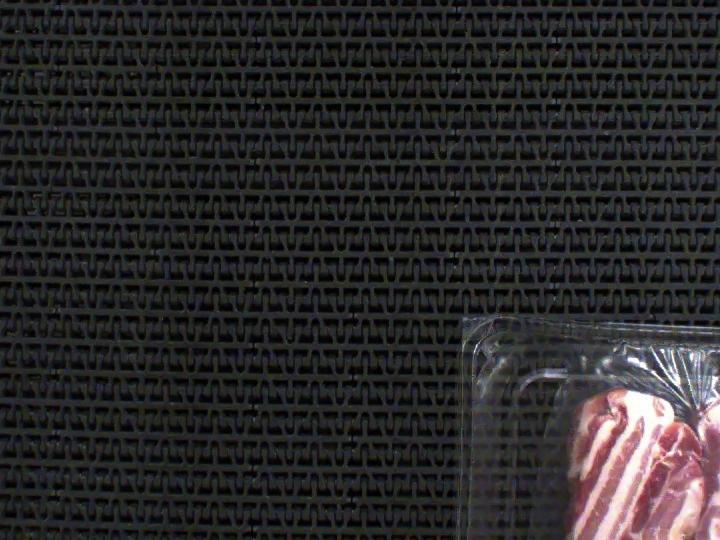unsealed: (560, 336, 720, 540)
